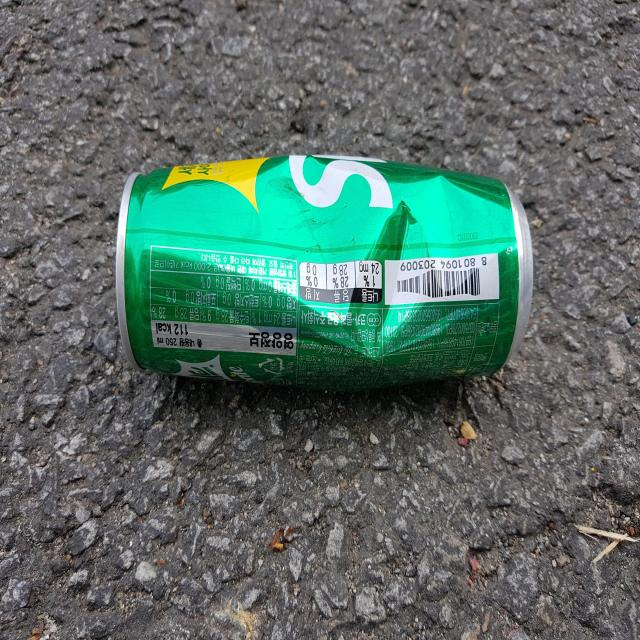can: (116, 154, 534, 391)
